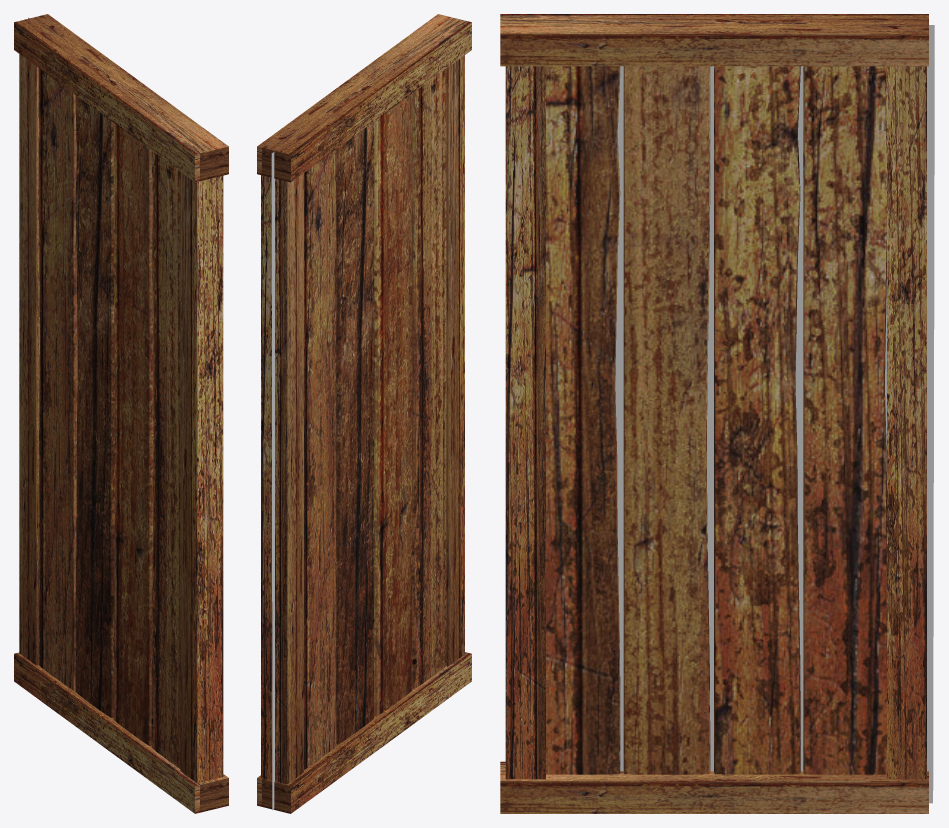
3 views of the same model, side by side, from view 1: azimuth 30°, elevation 25°; view 2: azimuth 150°, elevation 25°; view 3: azimuth 270°, elevation 25° (orthographic). The views are drawn at different scales.
Visible parts, largest first — view 1: Object14; view 2: Object14, Object19; view 3: Object14, Object19.
Boxes of the visible parts, bbox=[...] form: Object14: bbox=[14, 14, 228, 813]; Object14: bbox=[257, 14, 471, 813]; Object19: bbox=[271, 152, 274, 810]; Object14: bbox=[500, 14, 928, 813]; Object19: bbox=[615, 25, 934, 803].
Size of the model in its own units: 5.33 by 50.19 by 99.44.
